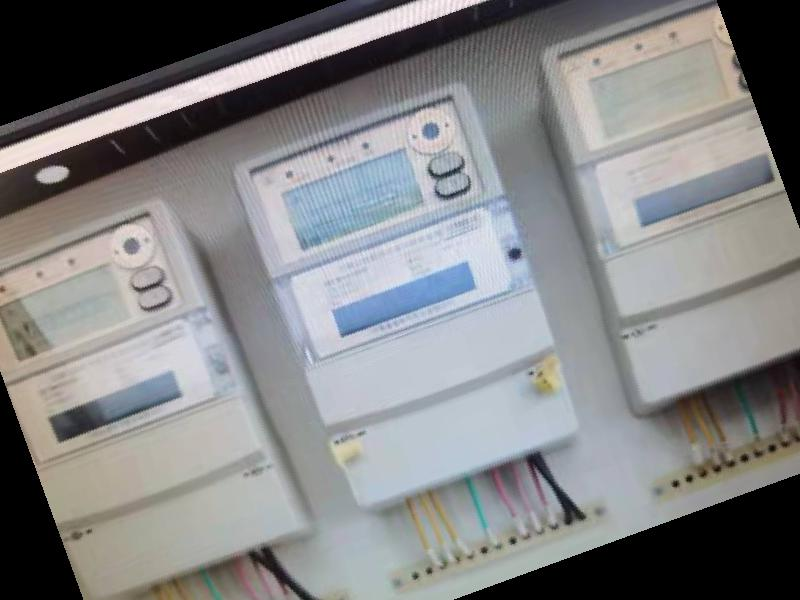digital: (233, 82, 575, 508), (1, 202, 304, 599), (542, 1, 800, 404)
